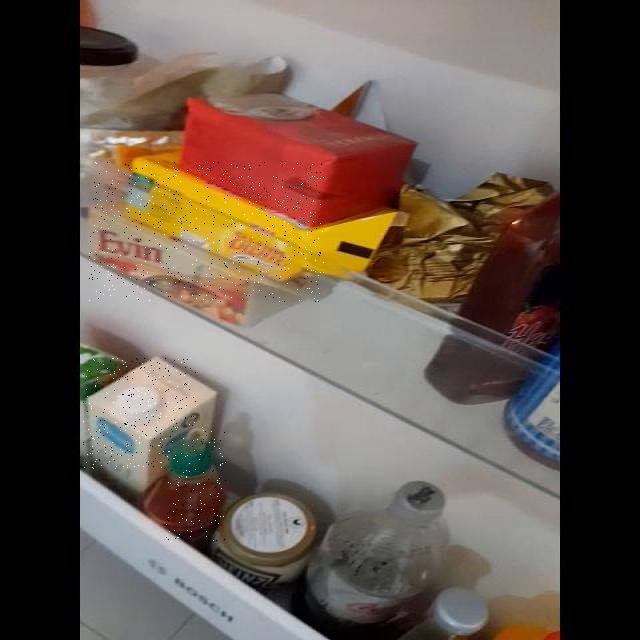butter: (89, 162, 324, 302)
milk: (83, 358, 196, 469)
sauce: (166, 426, 226, 543)
